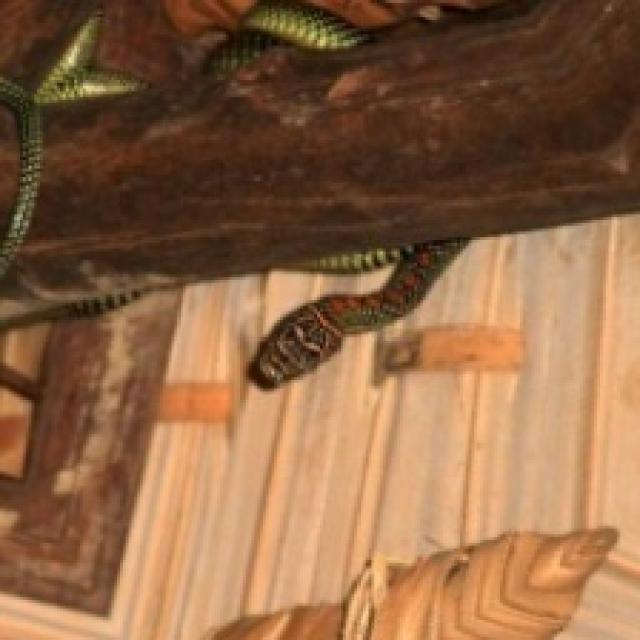paradise tree snake: (249, 237, 466, 386), (205, 2, 369, 76), (36, 10, 146, 104), (1, 282, 191, 331), (0, 78, 42, 278), (304, 249, 401, 273)
